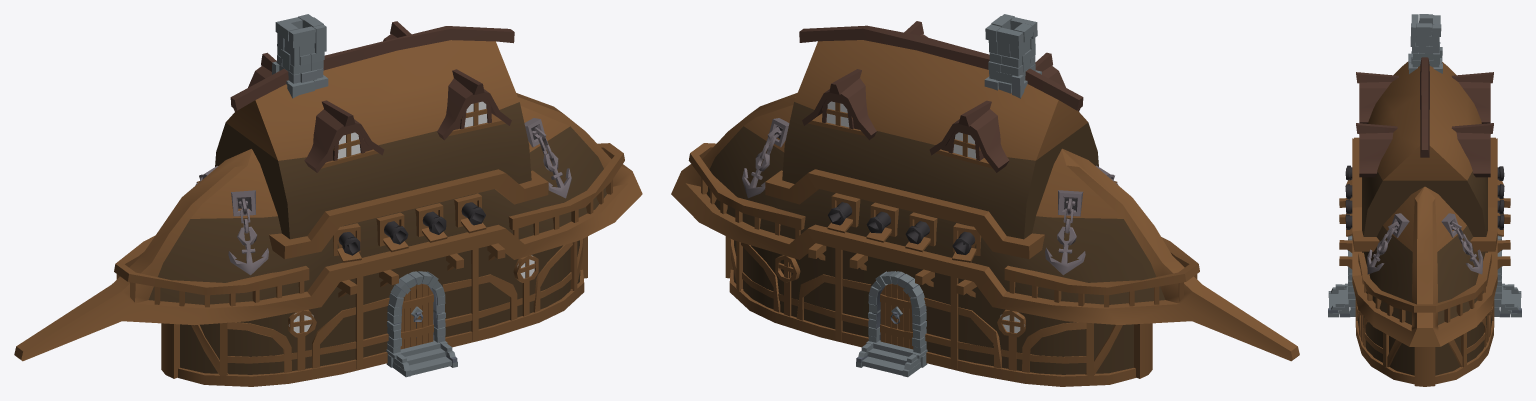
The model's file is house1.glb.
3 renders of one model, left to right at view 1: azimuth 30°, elevation 25°; view 2: azimuth 150°, elevation 25°; view 3: azimuth 270°, elevation 25°, orthographic. The views are drawn at different scales.
Parts seen in each view (by area): view 1: Environment_House1; view 2: Environment_House1; view 3: Environment_House1.
Boxes of the visible parts, left/top/right/bottom form: Environment_House1: left=14, top=14, right=642, bottom=386; Environment_House1: left=671, top=14, right=1299, bottom=386; Environment_House1: left=1328, top=14, right=1521, bottom=386.
Size of the model in its own units: 13.54 by 6.77 by 4.59.
